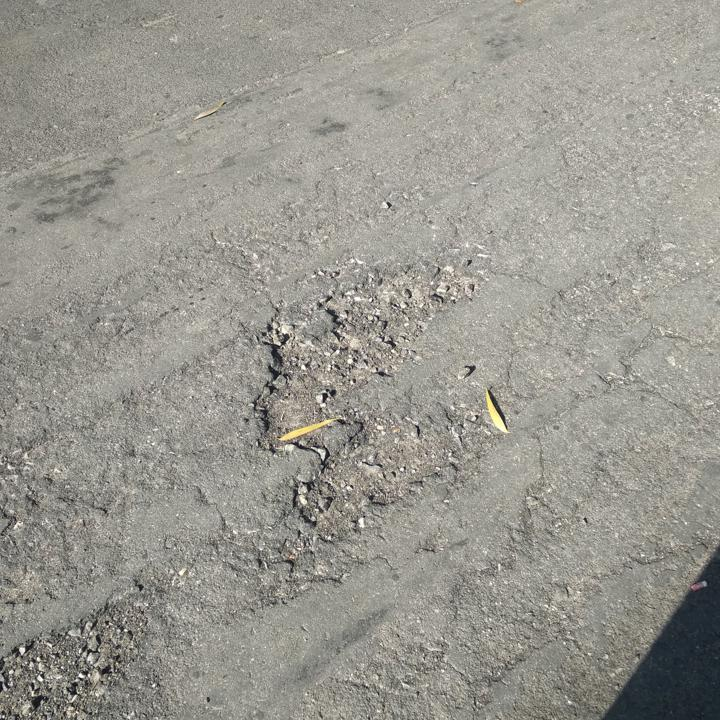pothole: (244, 262, 504, 534), (0, 595, 157, 719)
